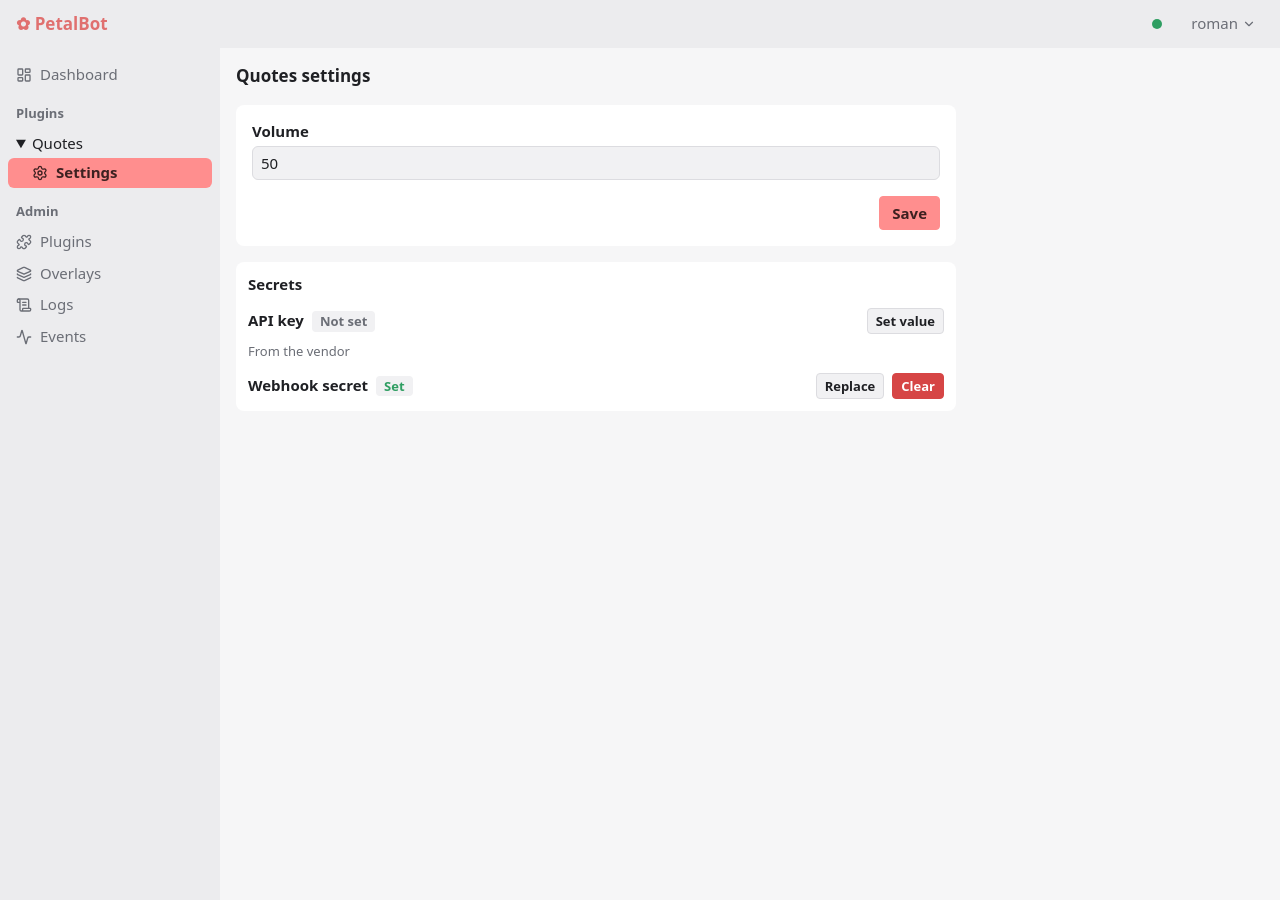
Test: secrets card › clears a secret after confirmation
The width and height of the screenshot is (1280, 900).
Click the button "Clear" at coordinates (918, 386), box [892, 373, 944, 399]
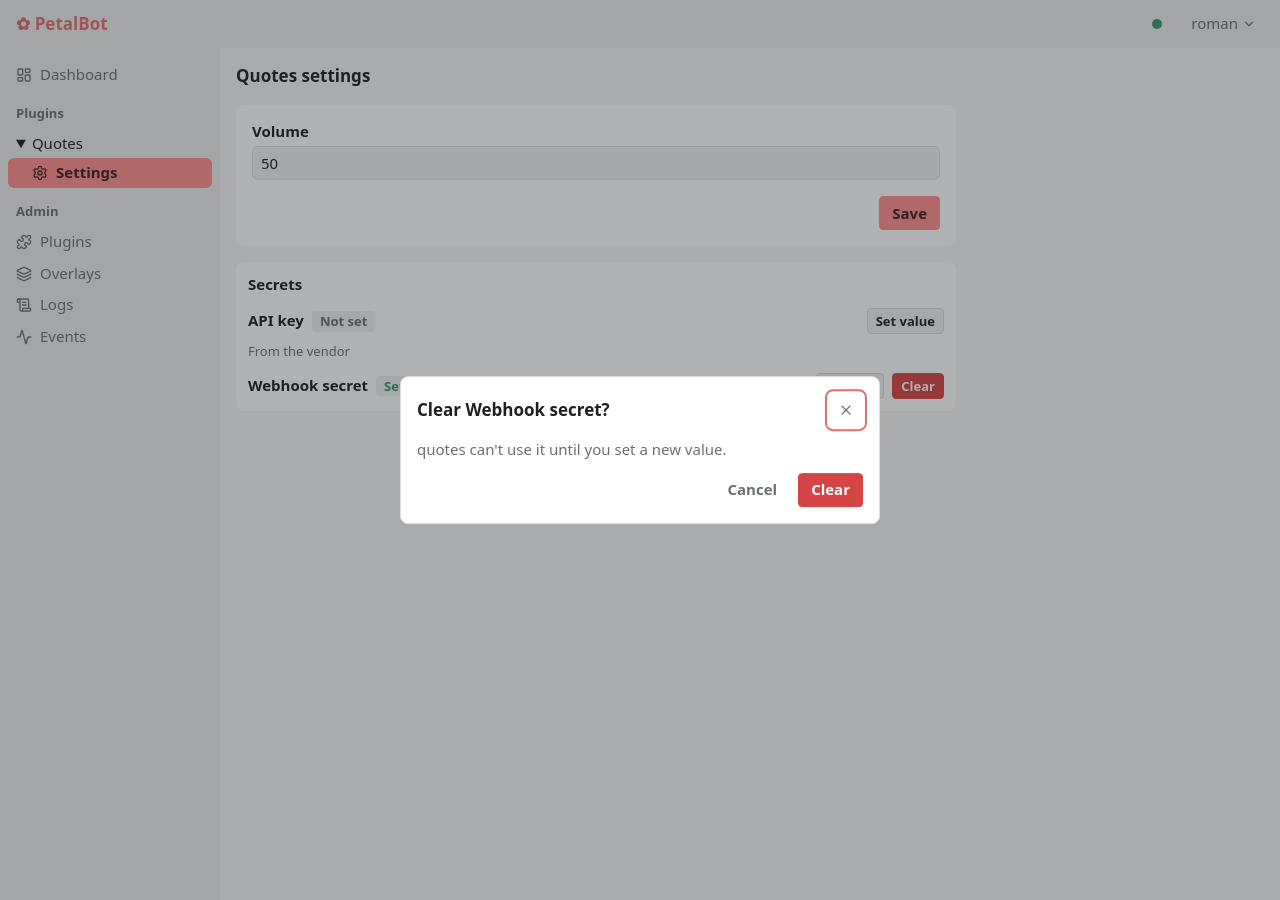
Click the button "Clear" at coordinates (831, 490), box [798, 473, 863, 507]
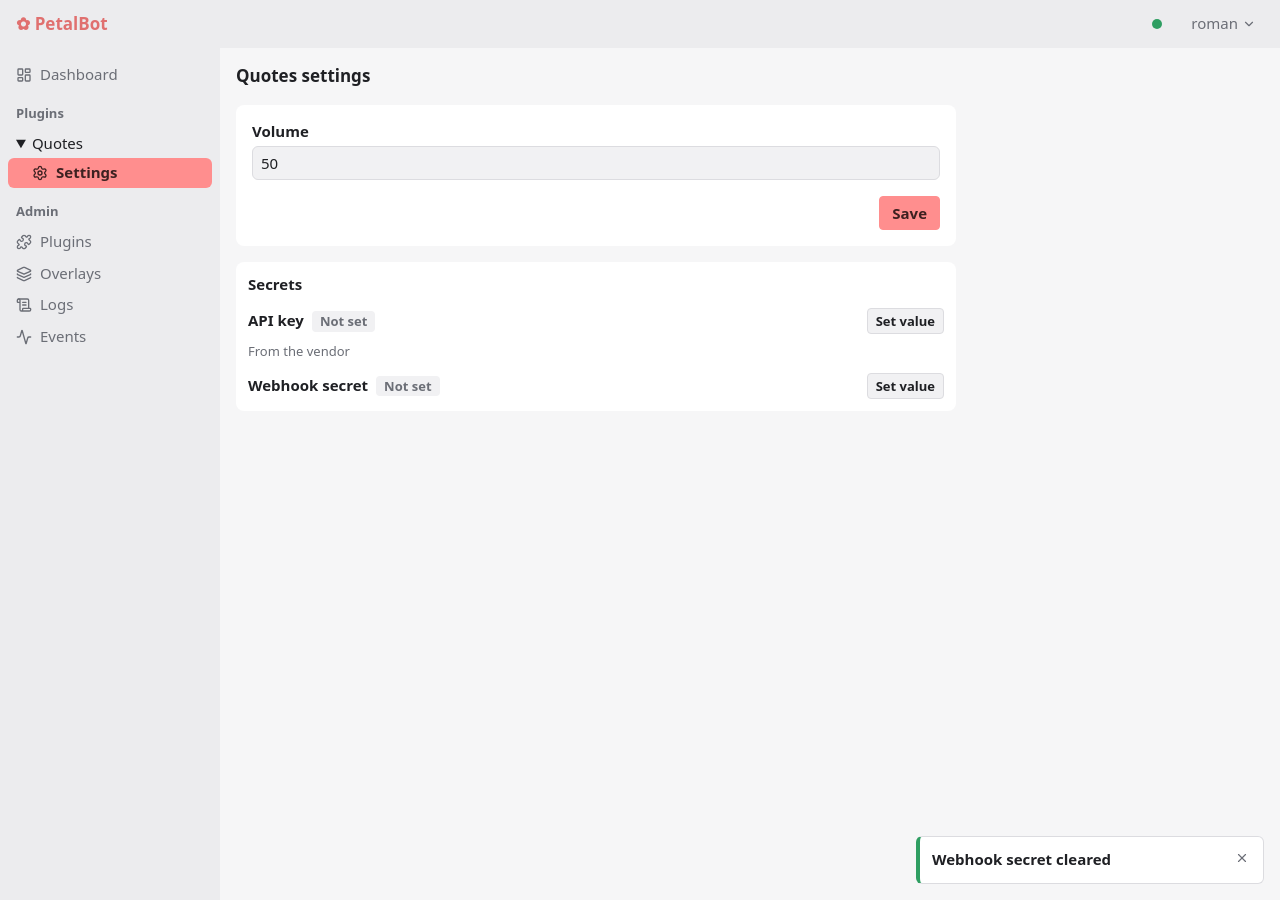
Now the 2nd text "Not set" is shown, box [376, 376, 440, 396]
